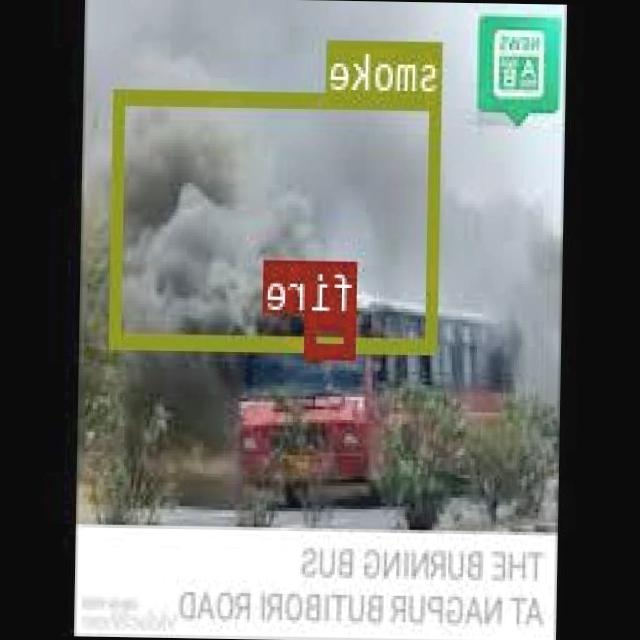fire: (307, 310, 359, 356)
smoke: (113, 86, 442, 352)
